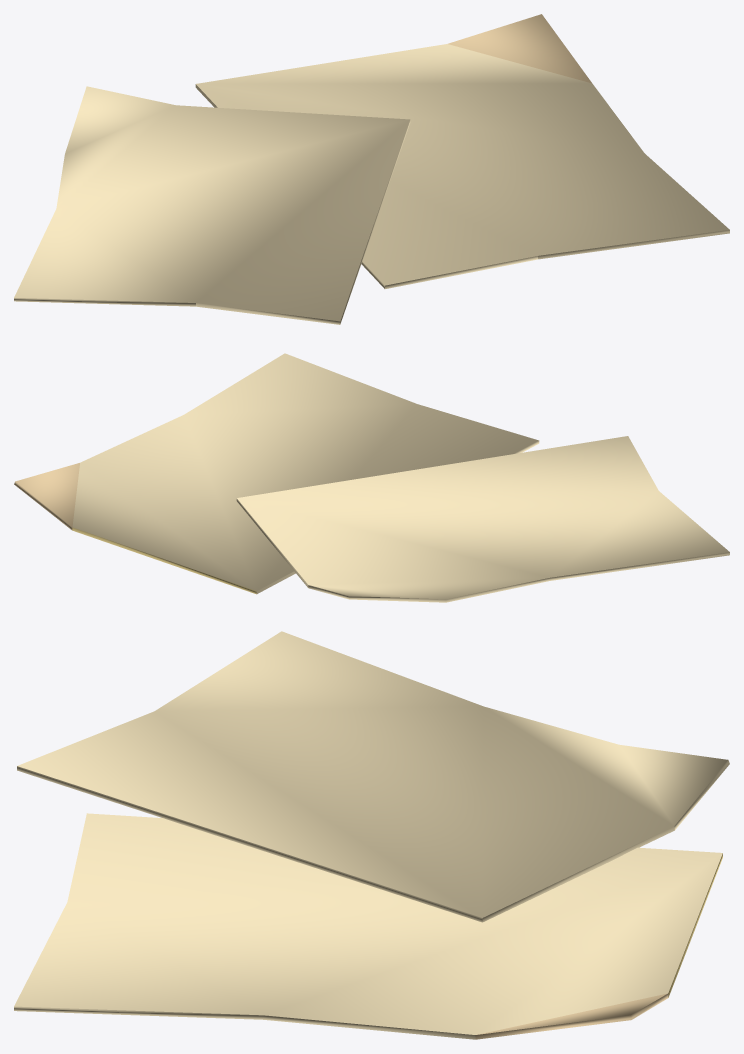
Rendered from cartas_natal_papel_pacote.glb.
3 renders of one model, top to bottom at view 1: azimuth 30°, elevation 25°; view 2: azimuth 150°, elevation 25°; view 3: azimuth 270°, elevation 25°, orthographic. The views are drawn at different scales.
Parts seen in each view (by area): view 1: cartas_natal_papel_pacote; view 2: cartas_natal_papel_pacote; view 3: cartas_natal_papel_pacote.
Boxes of the visible parts, left/top/right/bottom form: cartas_natal_papel_pacote: left=14, top=14, right=729, bottom=324; cartas_natal_papel_pacote: left=14, top=353, right=729, bottom=602; cartas_natal_papel_pacote: left=14, top=631, right=729, bottom=1039.
Bounding box in the file's own units: 0.3768 × 0.0139 × 0.2792.
1 material, 1 textured.
